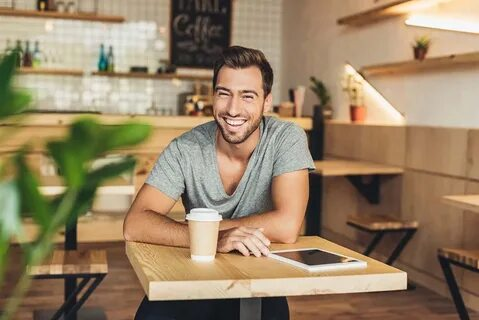awake: (122, 45, 311, 257)
